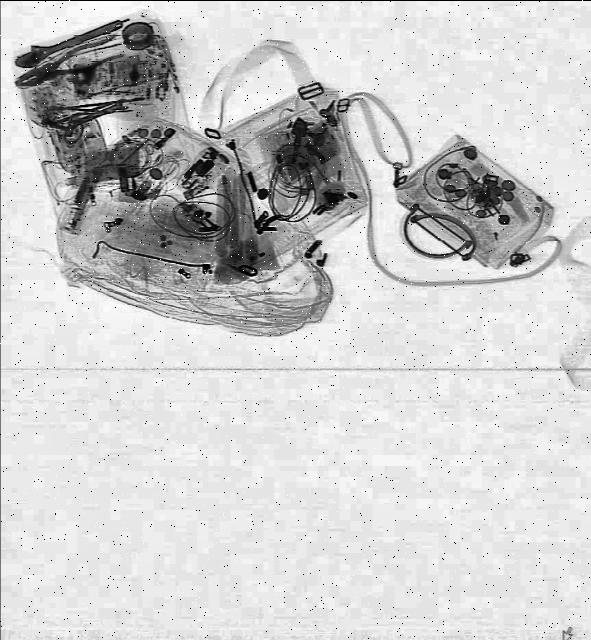Pliers: (10, 33, 124, 96)
Wrench: (9, 13, 127, 76)
